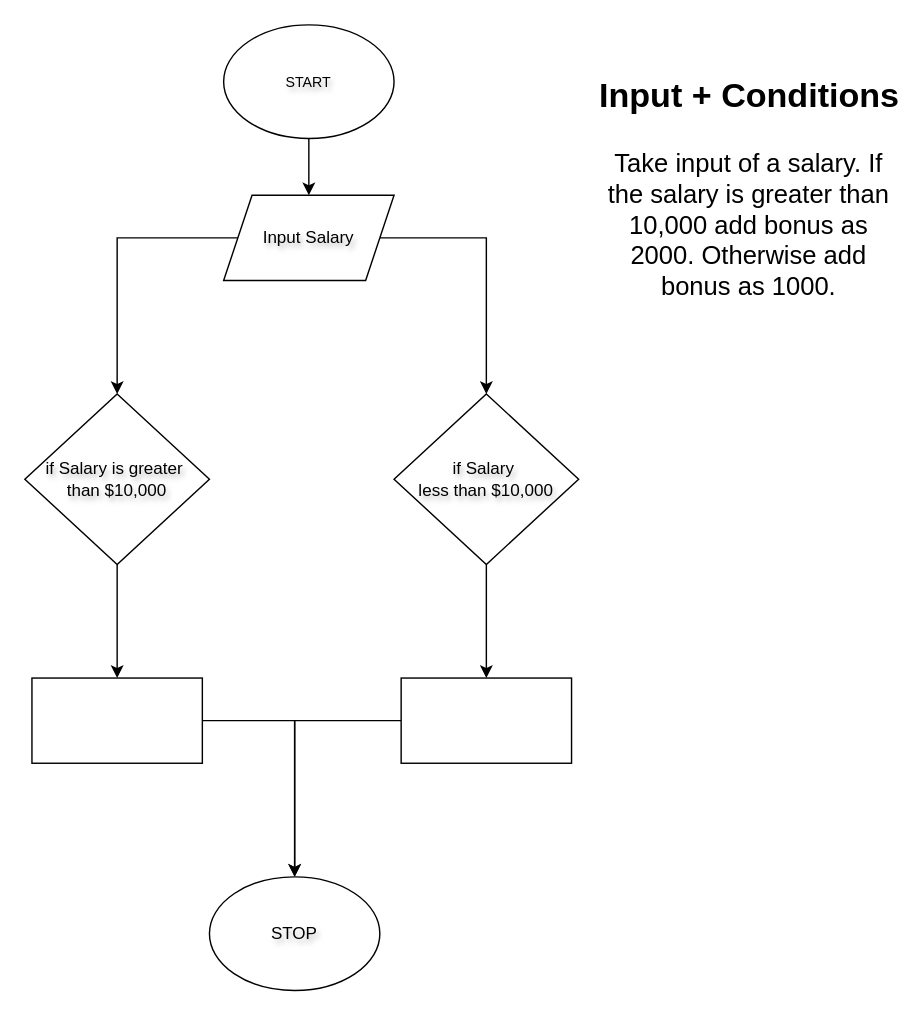
The diagram is 923 pixels wide and 1015 high, and some of its shapes have lost their labels. The shapes that lost their labels are listed below. From the top down, each one's centre as x and y in pixels, then its label:
At point (116, 720): "Bonus is $2000".
At point (486, 720): "Bonus is $1000".
